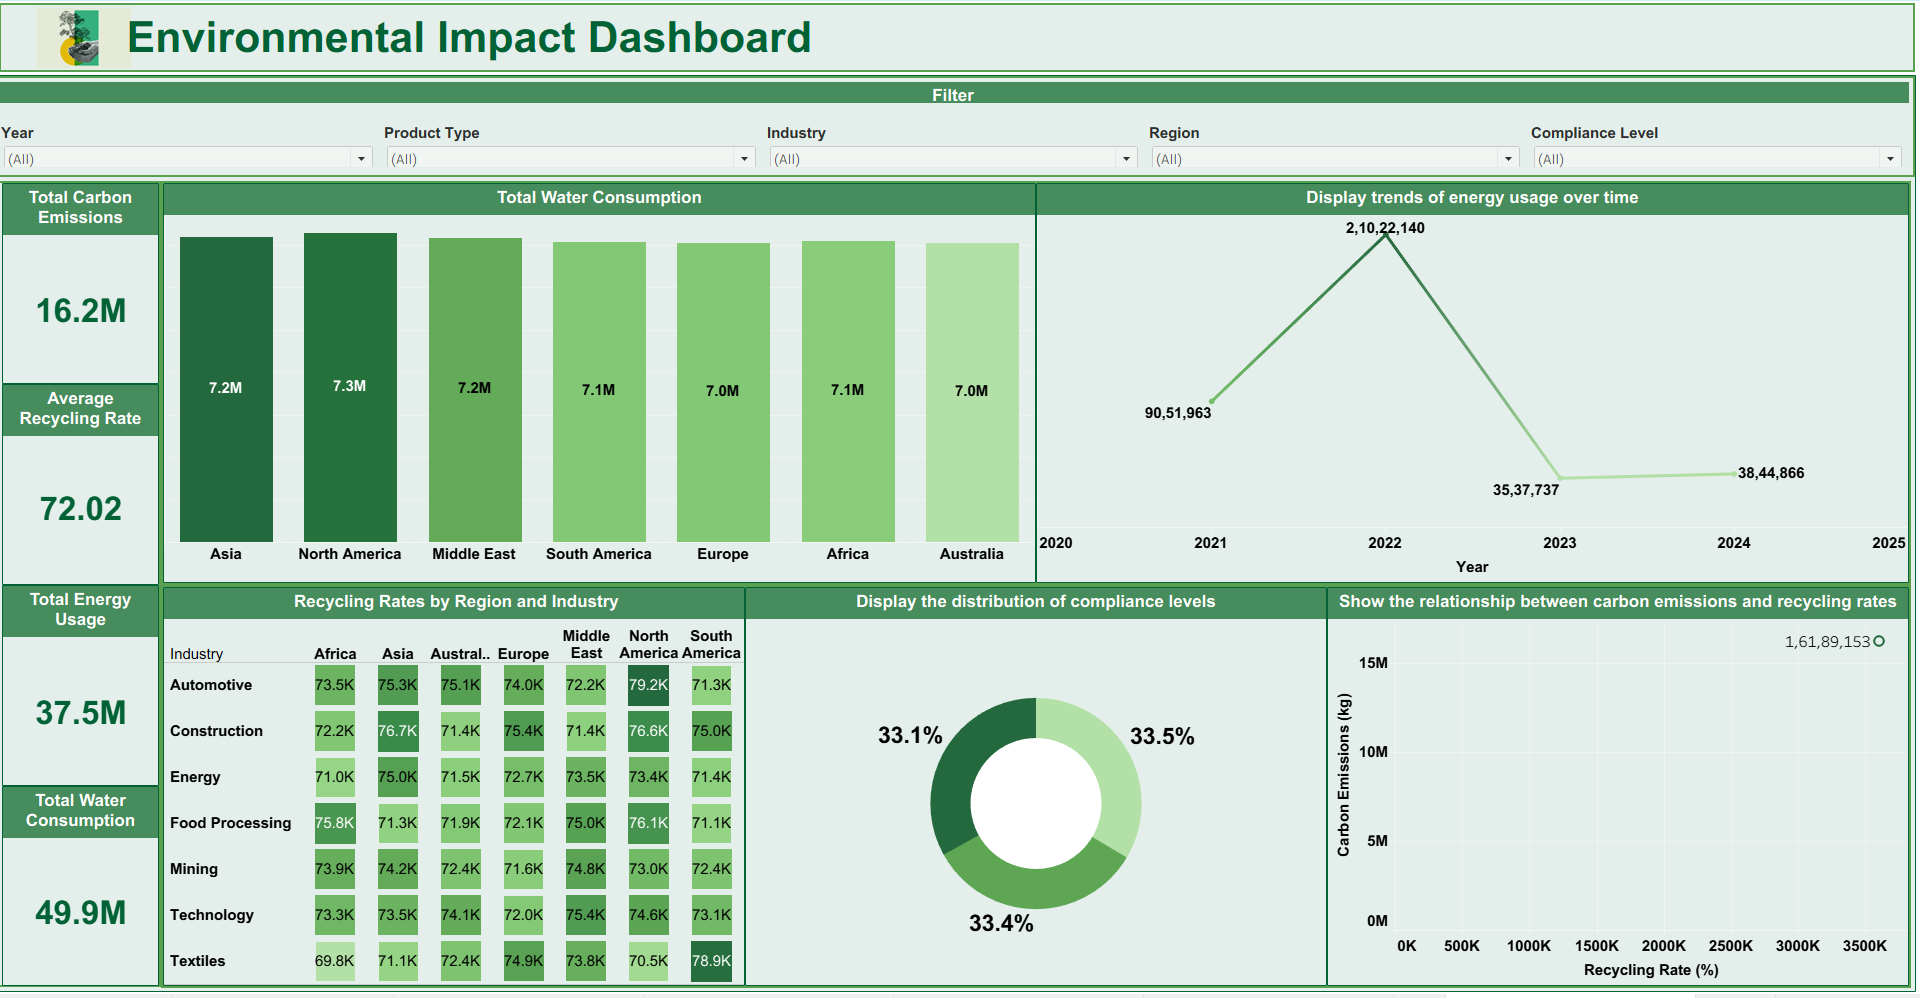

Layout of this report page (visuals, bound fields, positions):
{"tool":"tableau","page":{"name":"Enviromental Impact Dashboard","canvas":[1000,1000],"units":"permille","ordinal":0},"visuals":[{"type":"image","param":"C:/Users/siddhi/Downloads/Enviromental Impact(Tableau)/Logo.jpg","box":[0,1.2,87.9,71.2]},{"type":"filter","title":"Filter","param":"[federated.0f5ch9d1b0trqc1g14s620001hvs].[none:Product Type:nk]","box":[197.6,131.1,199.2,63.7]},{"type":"filter","title":"Filter","param":"[federated.0f5ch9d1b0trqc1g14s620001hvs].[none:Industry:nk]","box":[396.7,131.1,199.2,63.7]},{"type":"filter","title":"Filter","param":"[federated.0f5ch9d1b0trqc1g14s620001hvs].[none:Region:nk]","box":[595.9,131.1,199.2,63.7]},{"type":"filter","title":"Filter","param":"[federated.0f5ch9d1b0trqc1g14s620001hvs].[none:Compliance Level:nk]","box":[795,131.1,199.2,63.7]},{"type":"worksheet","title":"Total Water Consumption(2)","mark":"Automatic","rows":["Water Consumption (liters)"],"cols":["Region"],"box":[86.3,209.7,453.9,388.3]},{"type":"worksheet","title":"Display trends of energy usage over time","mark":"Automatic","rows":["Energy Usage (kWh)"],"cols":["Year"],"box":[540.2,209.7,453.9,388.3]},{"type":"worksheet","title":" Recycling Rates by Region and Industry","mark":"Automatic","rows":["Industry"],"cols":["Region"],"box":[86.3,603,303,387]},{"type":"worksheet","title":"Display the distribution of compliance levels","mark":"Pie","rows":["Calculation_3192207717029449728","Calculation_3192207717029449728"],"box":[389.3,603,302.4,387]},{"type":"worksheet","title":"Show the relationship between carbon emissions and recycling rates","mark":"Automatic","rows":["Carbon Emissions (kg)"],"cols":["Recycling Rate (%)"],"box":[691.7,603,302.4,387]}]}

Visuals, with their boxes on the dashboard's canvas, which has no fixed pixel size, in thousandths of its width and height (x1, y1, x2, y2). These are canvas units, not pixel positions in the 1920x998 screenshot, which may show the page scaled, cropped or inside an application window:
image: x1=0, y1=1, x2=88, y2=72
"Filter" filter: x1=198, y1=131, x2=397, y2=195
"Filter" filter: x1=397, y1=131, x2=596, y2=195
"Filter" filter: x1=596, y1=131, x2=795, y2=195
"Filter" filter: x1=795, y1=131, x2=994, y2=195
"Total Water Consumption(2)" worksheet: x1=86, y1=210, x2=540, y2=598
"Display trends of energy usage over time" worksheet: x1=540, y1=210, x2=994, y2=598
" Recycling Rates by Region and Industry" worksheet: x1=86, y1=603, x2=389, y2=990
"Display the distribution of compliance levels" worksheet (Pie marks): x1=389, y1=603, x2=692, y2=990
"Show the relationship between carbon emissions and recycling rates" worksheet: x1=692, y1=603, x2=994, y2=990
